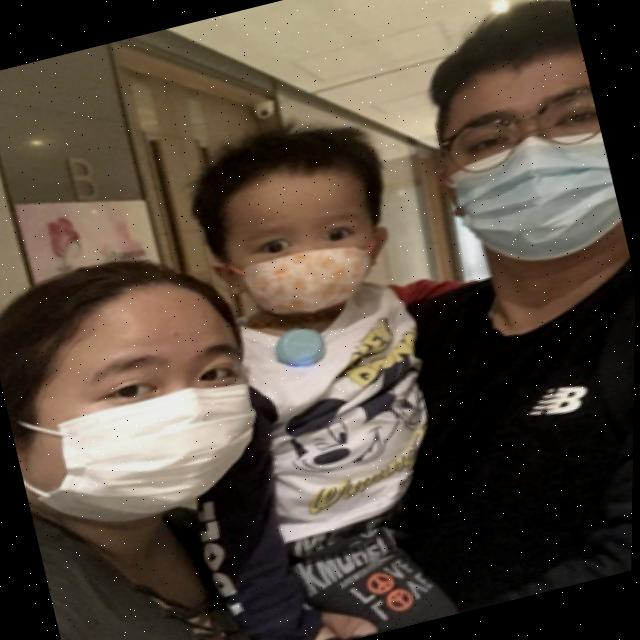Mask: (4, 342, 277, 546), (428, 100, 631, 290), (207, 200, 407, 338)
